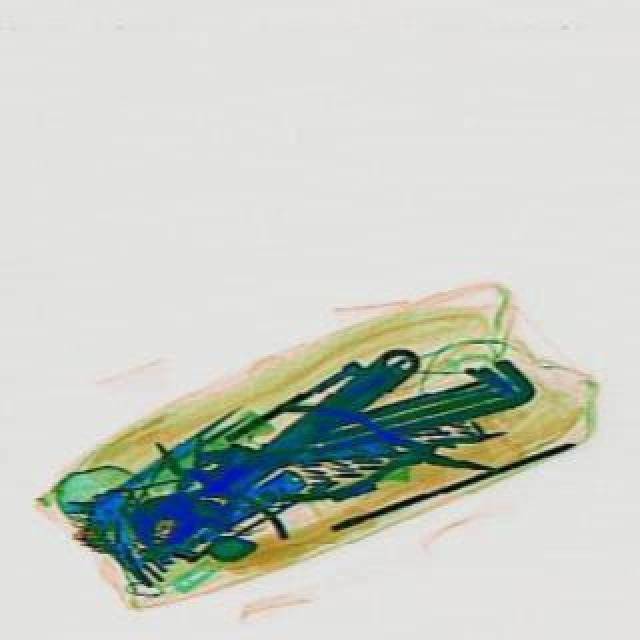scissors: (116, 320, 432, 568)
wrench: (256, 402, 504, 506)
